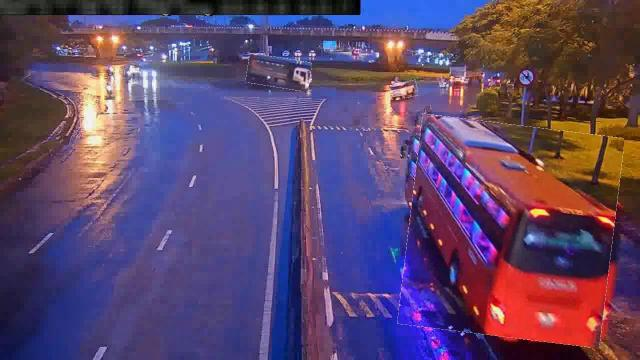Bike: (102, 82, 114, 96)
Bus: (404, 120, 618, 342)
Car: (390, 81, 418, 99)
Truck: (246, 55, 312, 89)
